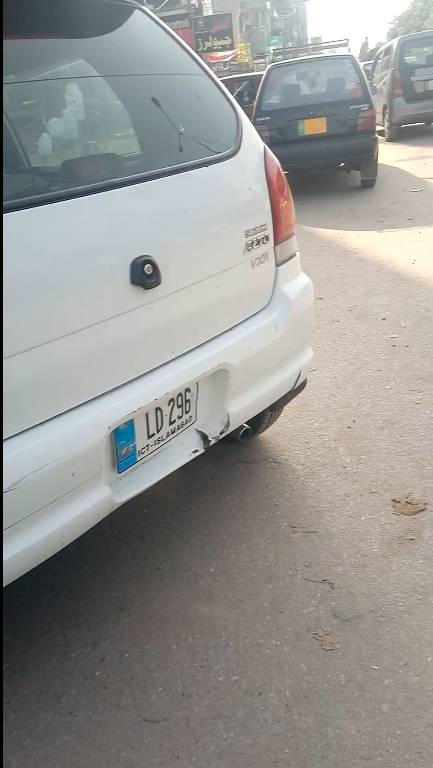number_plate: (109, 383, 227, 452), (296, 115, 332, 138)
